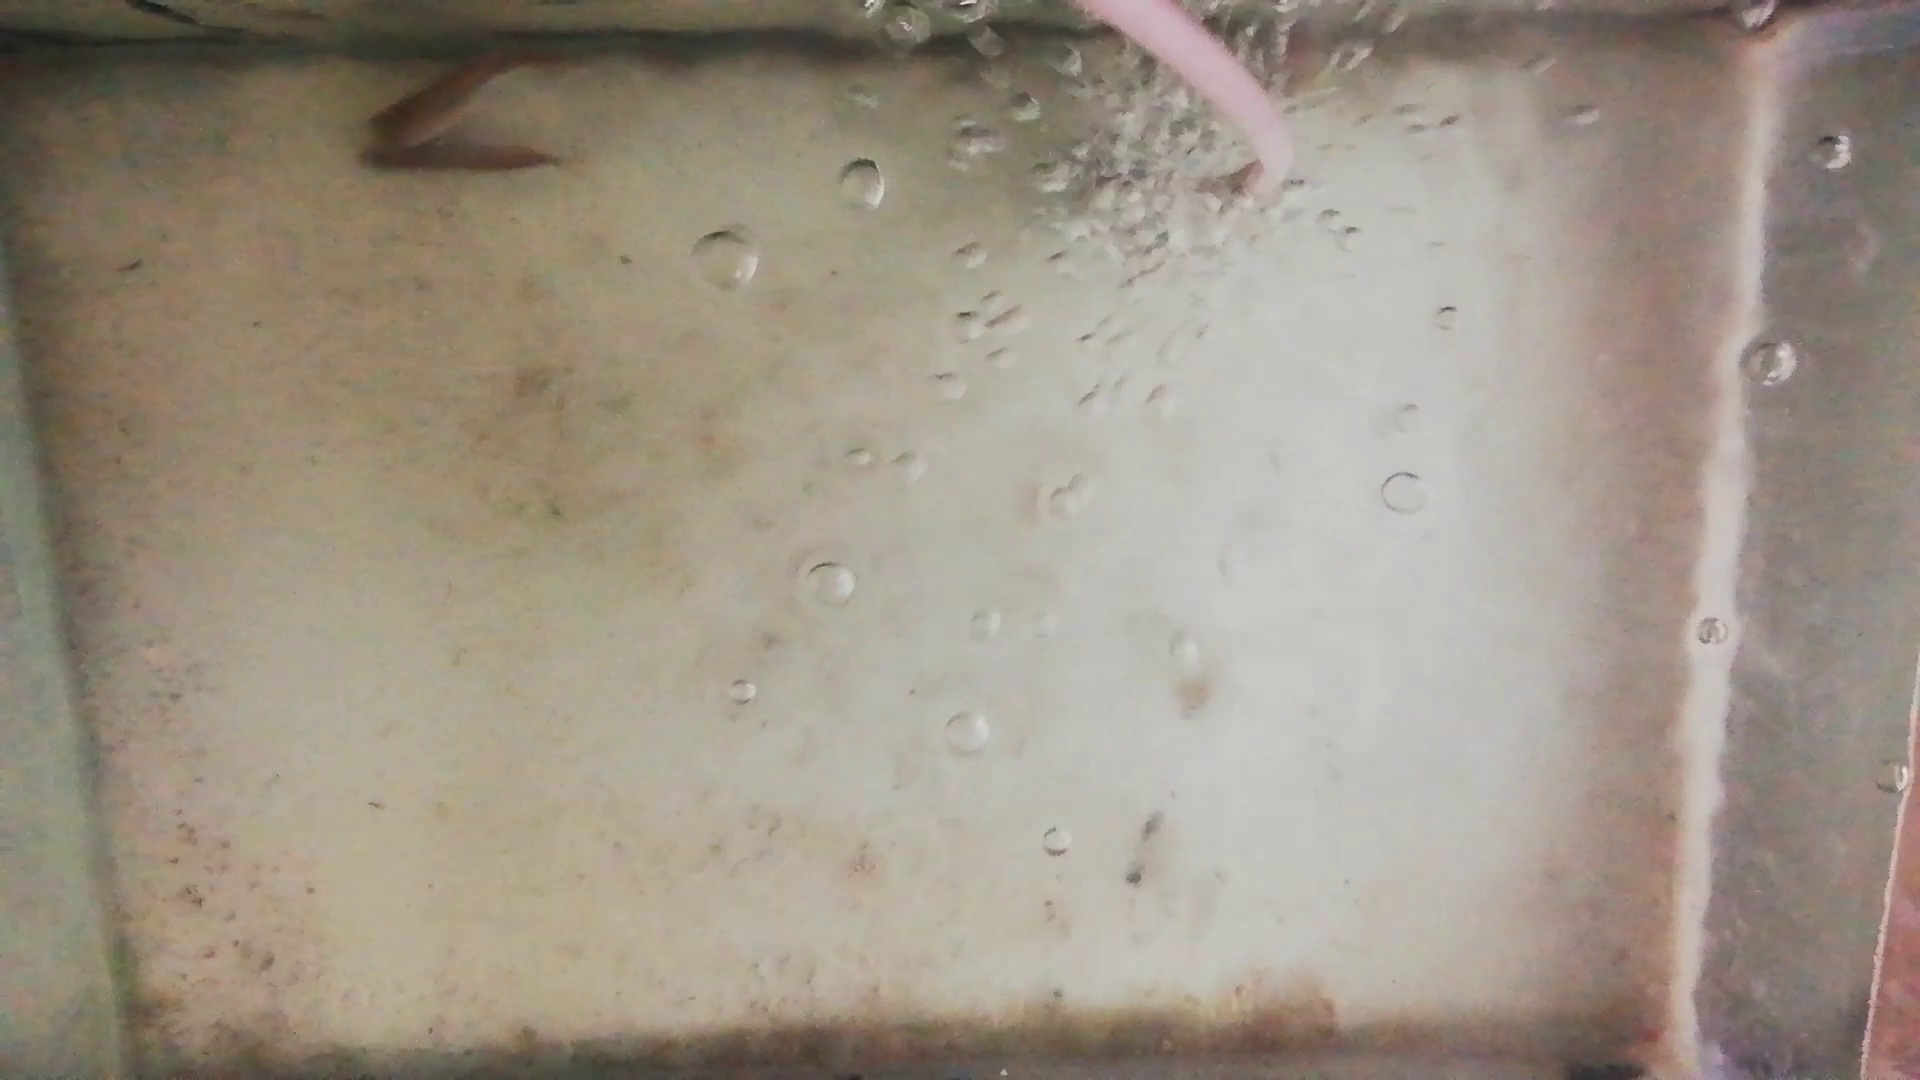fish: (369, 42, 575, 141), (357, 136, 563, 175)
